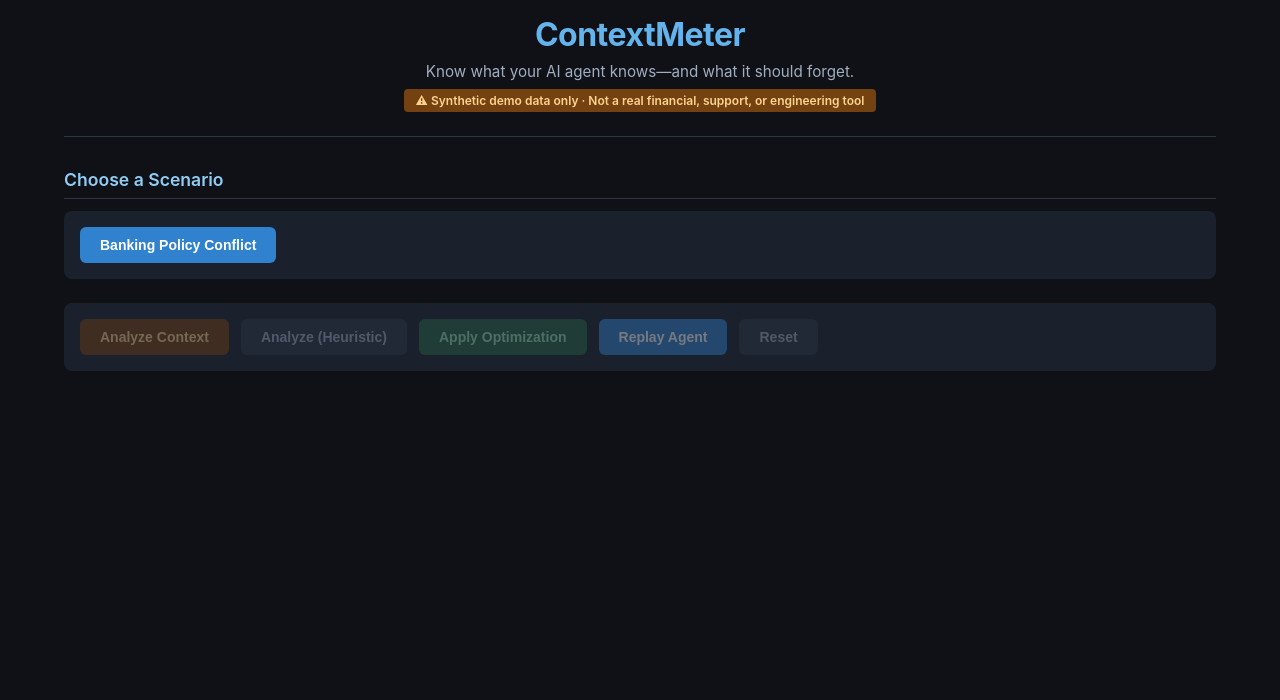
Scenario: App workflow › displays evaluation results after replay
Click the button "Banking Policy Conflict": (178, 245) [80,227,276,263]
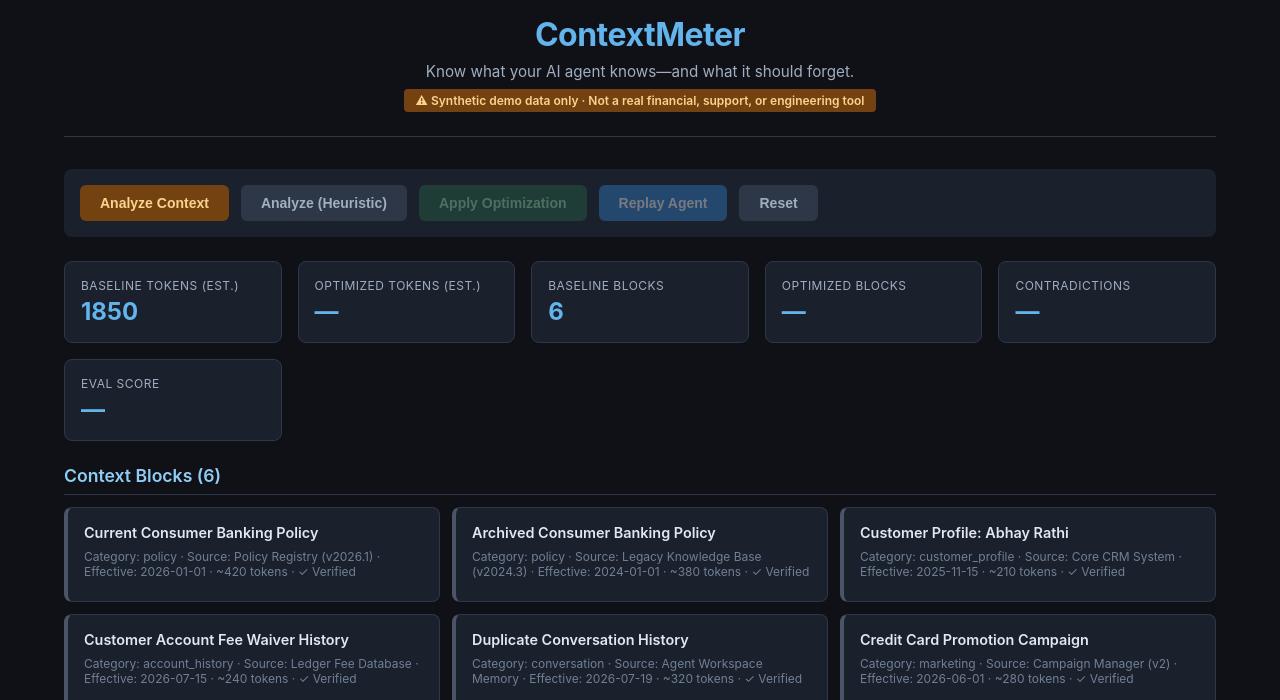
Click the button "Analyze Context": (154, 203) [80,185,229,221]
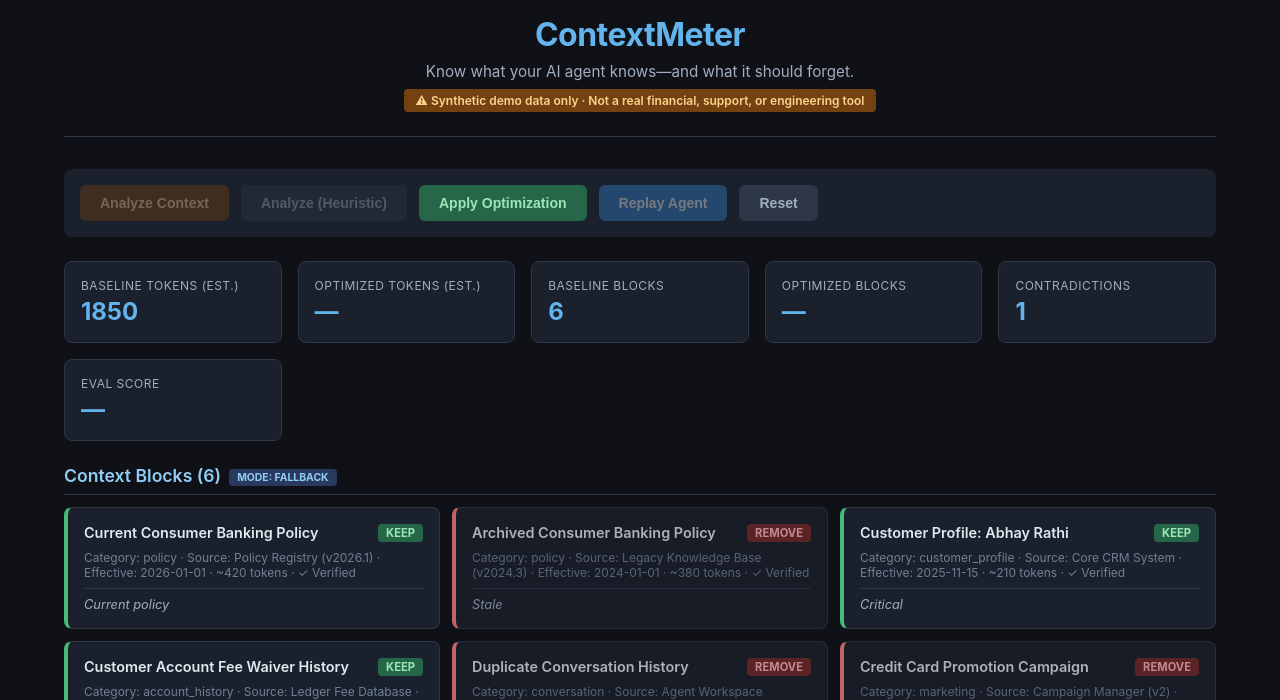
Click the button "Apply Optimization": (503, 203) [419,185,587,221]
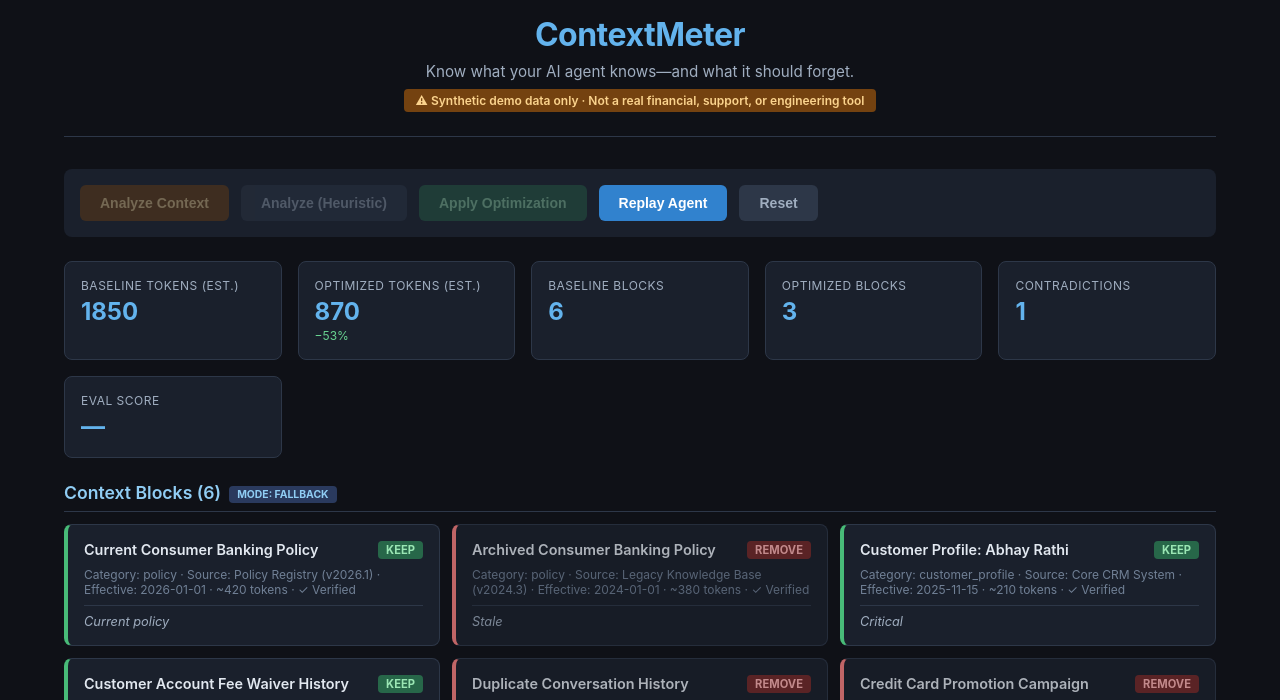
Click the button "Replay Agent": (663, 203) [598,185,728,221]
(page scrolled)
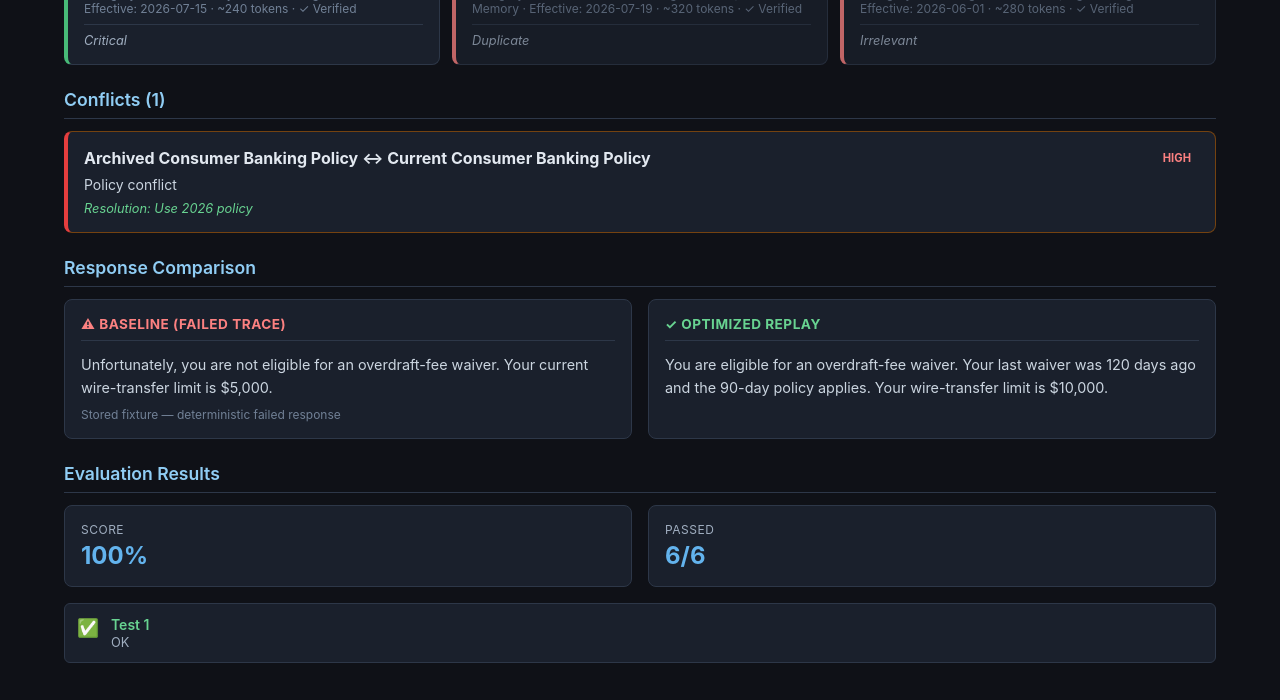
Check: the heading "Evaluation Results" is shown, box [64,463,1216,493]
